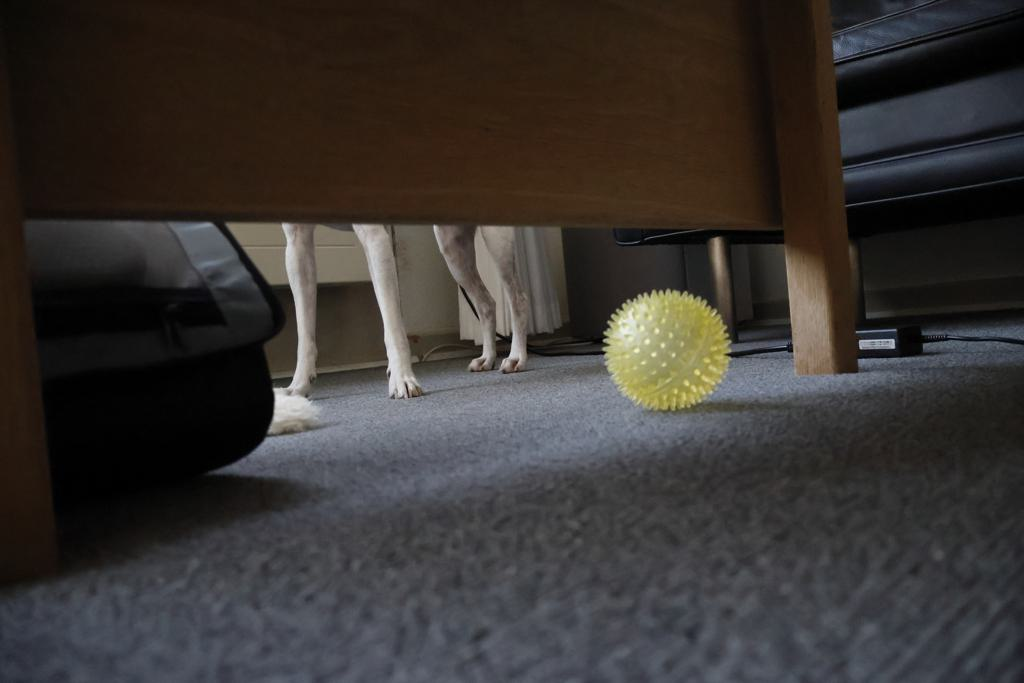Dog: (253, 218, 541, 407)
